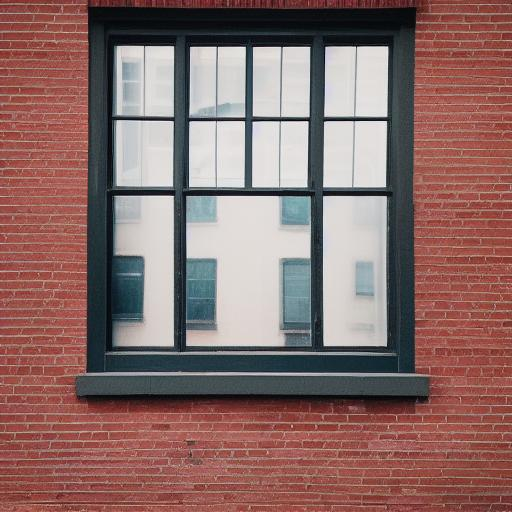Window: (70, 2, 435, 402)
